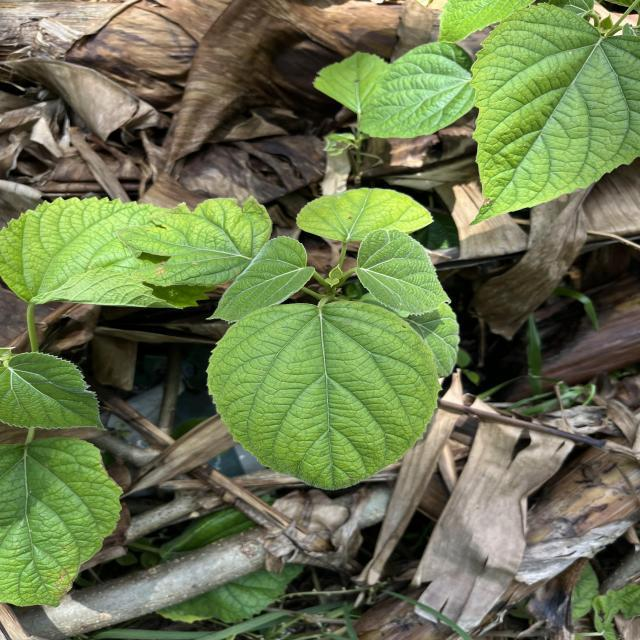Clerodendrum infortunatum: (204, 298, 444, 492), (466, 6, 640, 232), (0, 188, 220, 310), (0, 436, 125, 609), (349, 36, 476, 140), (204, 234, 316, 323), (0, 349, 110, 432), (354, 228, 452, 316), (294, 186, 436, 242)
